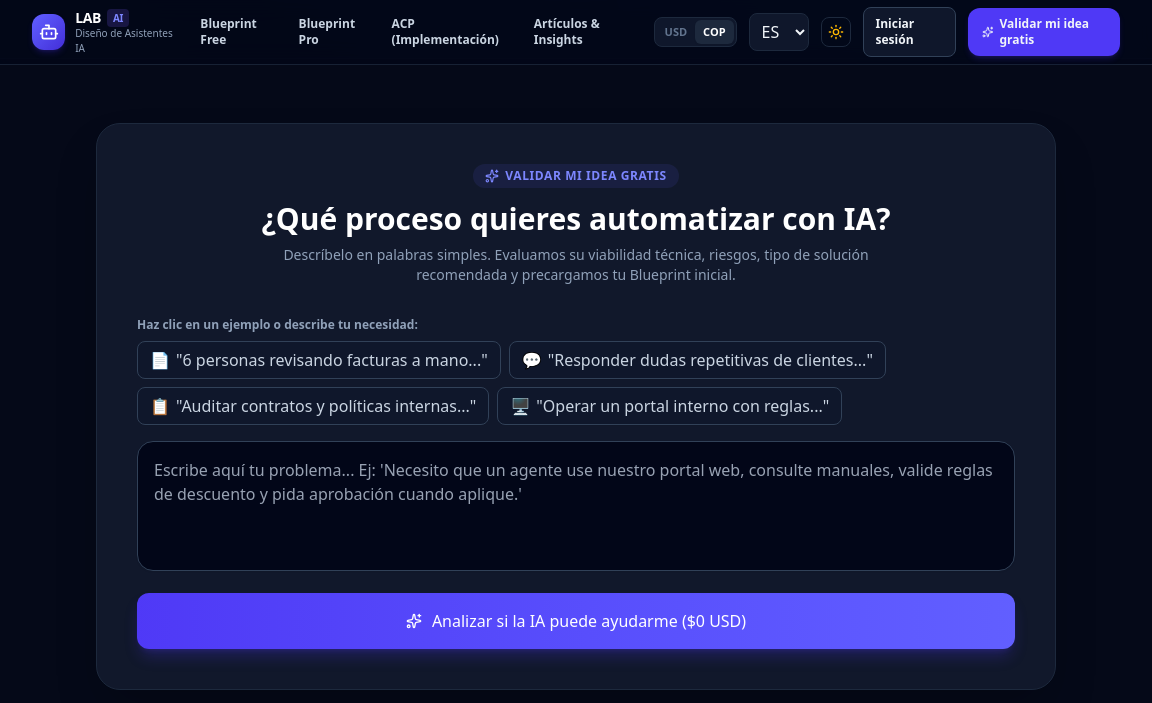
Test: LabLandingPage Component › runs AI initiative analysis and displays scorecard inside Interactive Validator
The width and height of the screenshot is (1152, 703).
(page scrolled)
# Prefill via example chip
Click the text "\"6 personas revisando facturas a mano...\"": click(332, 360) [176,348,488,372]
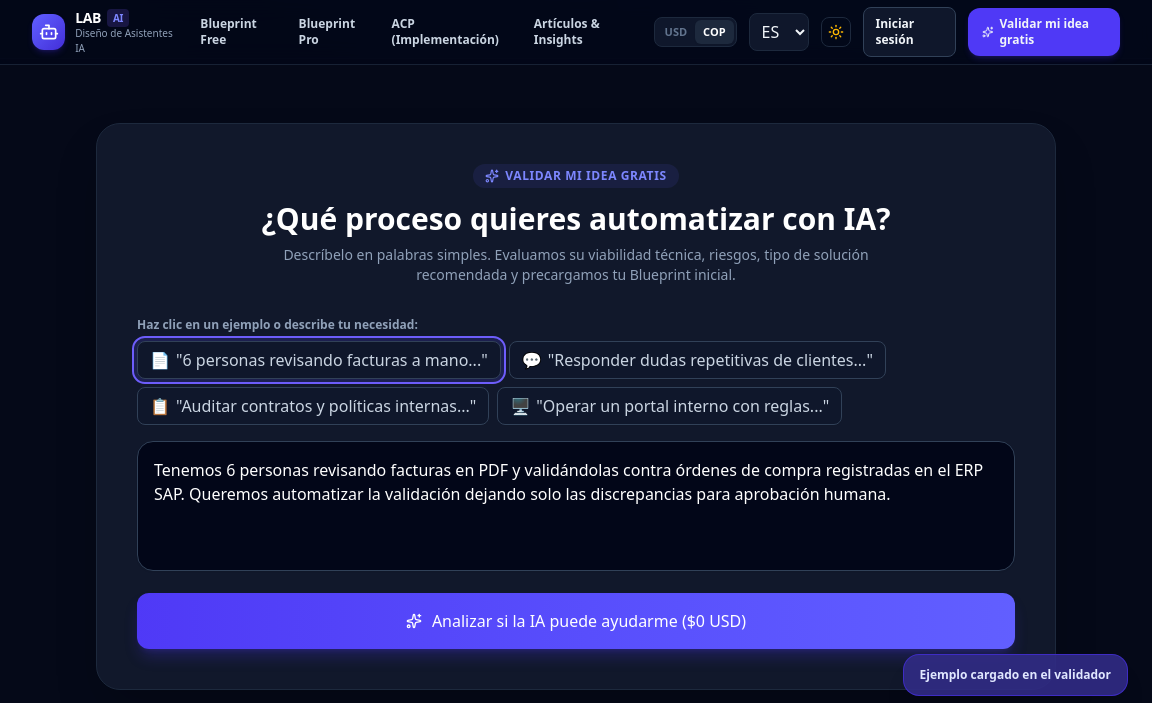
Click the button "Analizar si la IA puede ayudarme ($0 USD)": click(576, 621) [137,593,1015,649]
(page scrolled)
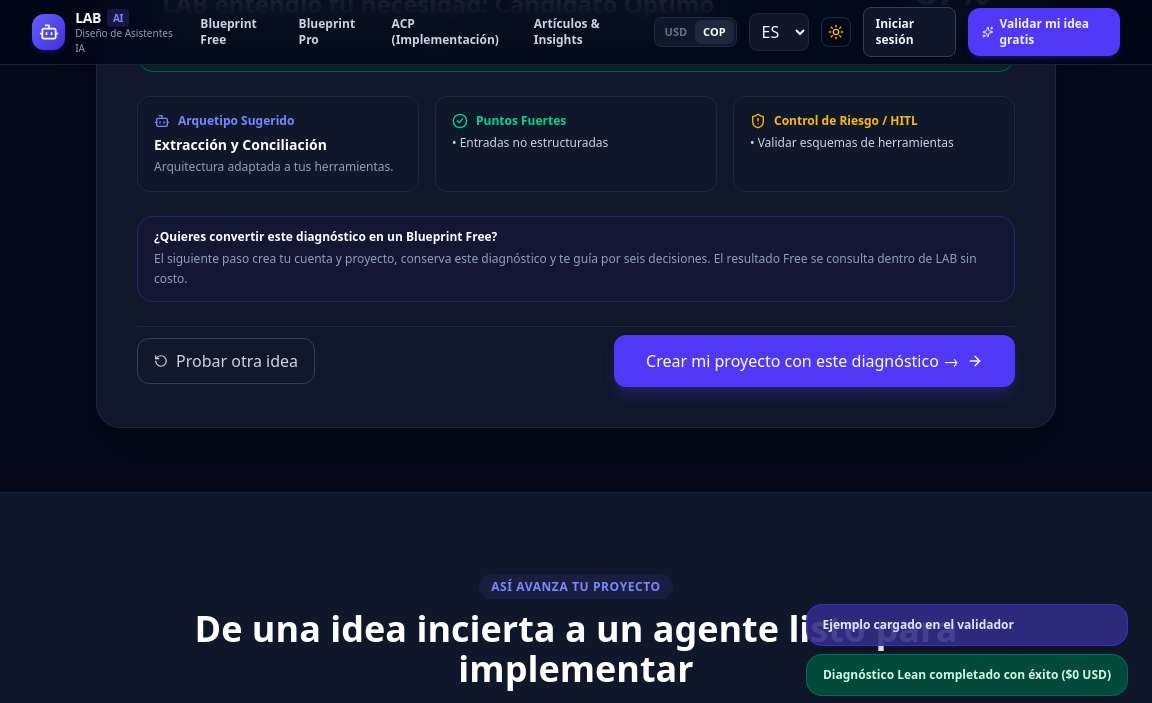
Expected: the text "Crear mi proyecto con este diagnóstico →" is shown, [646,349,959,373]
